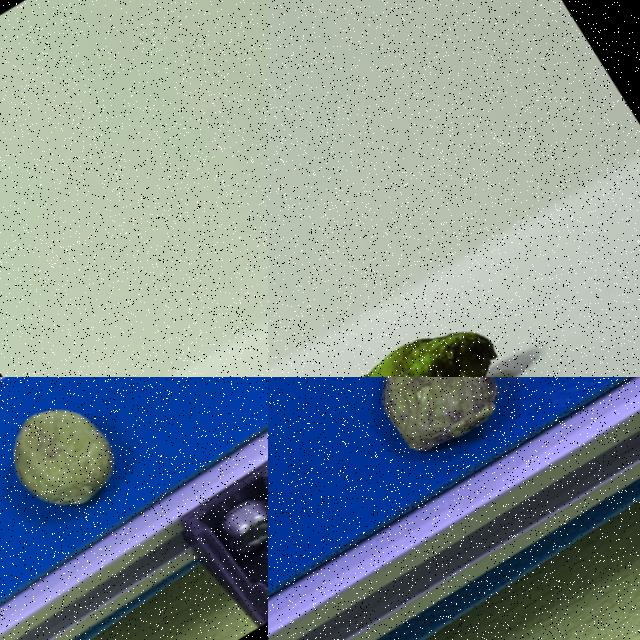Fine_cocoabeans: (0, 377, 209, 582)
Flat_cocoabeans: (268, 226, 613, 376), (277, 377, 569, 525)
